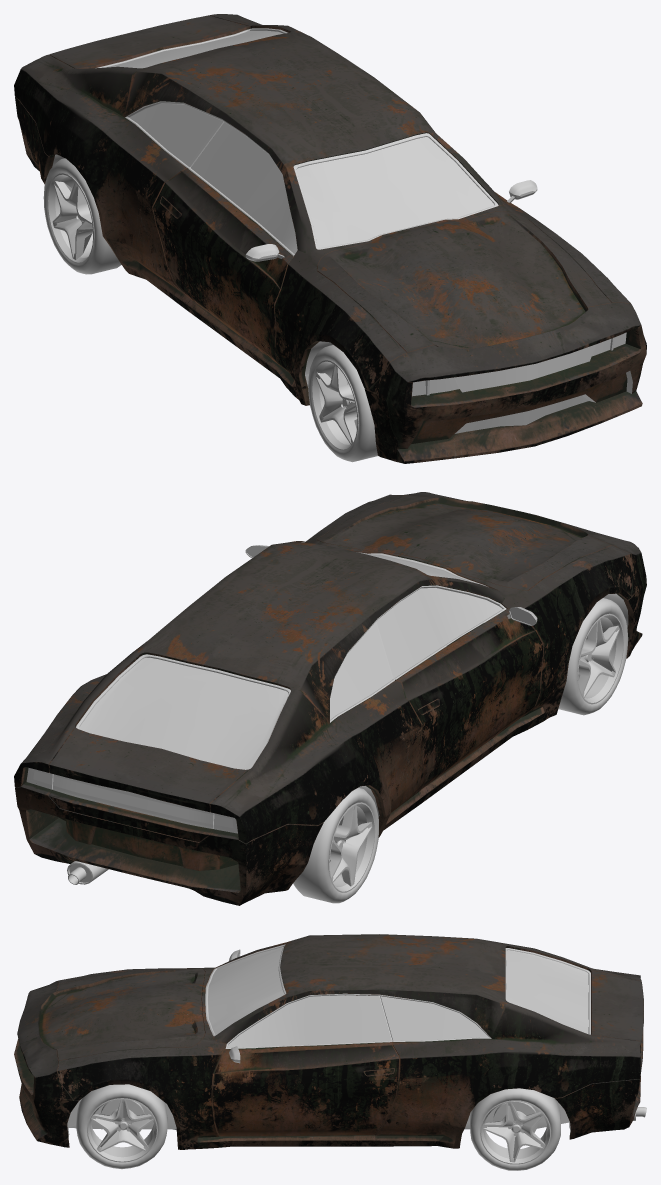
Rendered from car3.fbx.
The picture shows the model from 3 angles, top to bottom: view 1: azimuth 30°, elevation 25°; view 2: azimuth 150°, elevation 25°; view 3: azimuth 270°, elevation 25°; orthographic projection. The views are drawn at different scales.
Visible parts, largest first — view 1: car3; view 2: car3; view 3: car3.
Part boxes in pixels (<box>): car3: <box>14,14,646,463</box>; car3: <box>14,492,646,905</box>; car3: <box>14,934,646,1170</box>.
Bounding box in the file's own units: 1.83 × 1.28 × 4.5.
